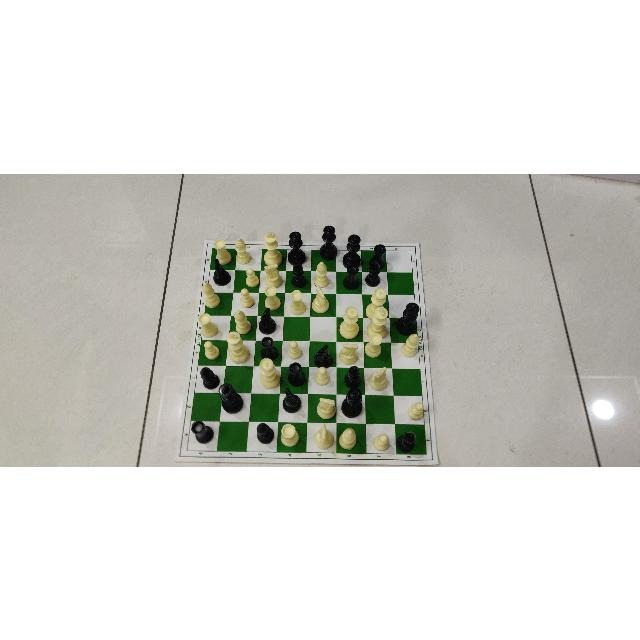black-bishop: (289, 260, 308, 288), (364, 259, 382, 287), (343, 365, 363, 389), (395, 431, 418, 451), (255, 422, 275, 443), (200, 364, 217, 388)
black-king: (396, 301, 422, 333), (218, 384, 244, 414)
black-knight: (279, 386, 302, 414), (211, 257, 231, 285), (256, 307, 276, 334), (311, 344, 333, 368)
black-queen: (340, 386, 364, 418), (341, 233, 362, 269), (286, 230, 306, 266), (318, 224, 339, 258)
black-rook: (192, 420, 214, 444), (286, 362, 308, 386), (258, 336, 279, 361), (342, 264, 361, 290), (368, 241, 386, 268)
white-bishop: (200, 280, 222, 310), (234, 235, 254, 267), (400, 329, 419, 358), (314, 260, 332, 288), (231, 310, 250, 335), (339, 425, 355, 451)
white-king: (227, 331, 249, 365), (263, 231, 283, 267)
white-knight: (260, 262, 284, 290), (309, 286, 330, 315), (313, 424, 335, 450), (366, 366, 388, 392), (314, 395, 338, 418)
white-pawn: (200, 339, 222, 361), (237, 288, 257, 310), (407, 399, 426, 421), (286, 338, 304, 360), (313, 365, 330, 387), (242, 266, 259, 288), (373, 432, 391, 452)
white-queen: (337, 306, 361, 342), (363, 287, 389, 319), (256, 357, 279, 389), (368, 304, 388, 339)
white-rook: (278, 422, 301, 448), (196, 313, 219, 338), (288, 289, 308, 315), (213, 239, 233, 264), (262, 285, 282, 310), (366, 333, 384, 359)
